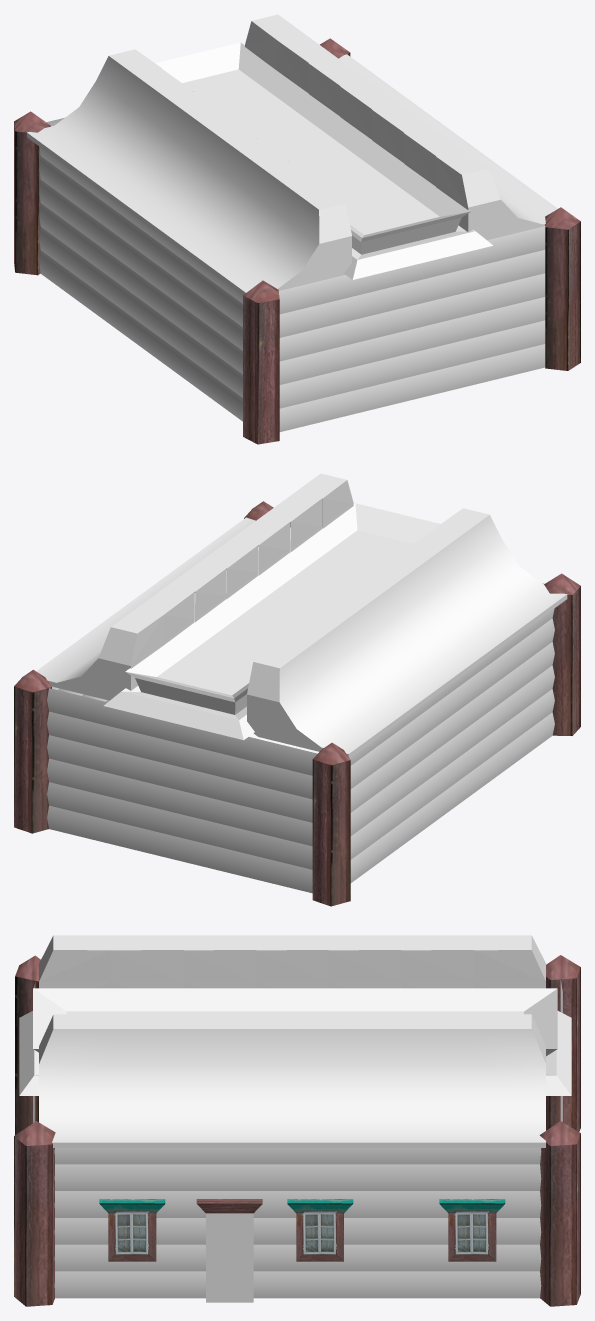
The model's file is House3.fbx.
3 views of the same model, one above another, from view 1: azimuth 30°, elevation 25°; view 2: azimuth 150°, elevation 25°; view 3: azimuth 270°, elevation 25° (orthographic). The views are drawn at different scales.
Visible parts, largest first — view 1: WallHalf044; view 2: WallHalf044; view 3: WallHalf044.
Part boxes in pixels (x1=…): WallHalf044: x1=14, y1=14, x2=580, y2=444; WallHalf044: x1=14, y1=473, x2=580, y2=906; WallHalf044: x1=14, y1=935, x2=580, y2=1306.
Bounding box in the file's own units: 885 × 1152 × 522.
